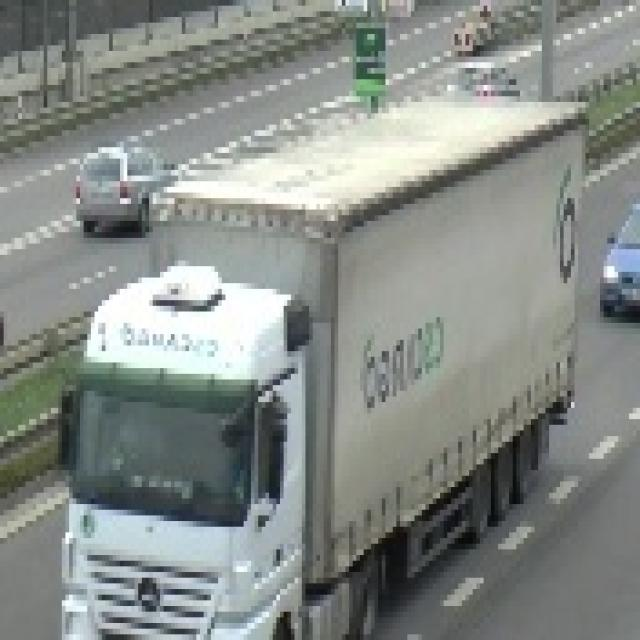SUV: (75, 146, 188, 240)
TRUCK: (51, 91, 579, 640)
